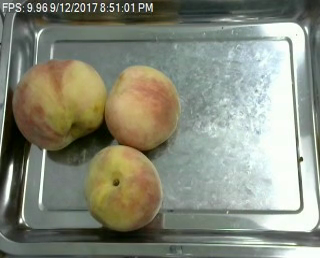Peach: (12, 57, 106, 149), (85, 145, 162, 232), (105, 64, 180, 149)
